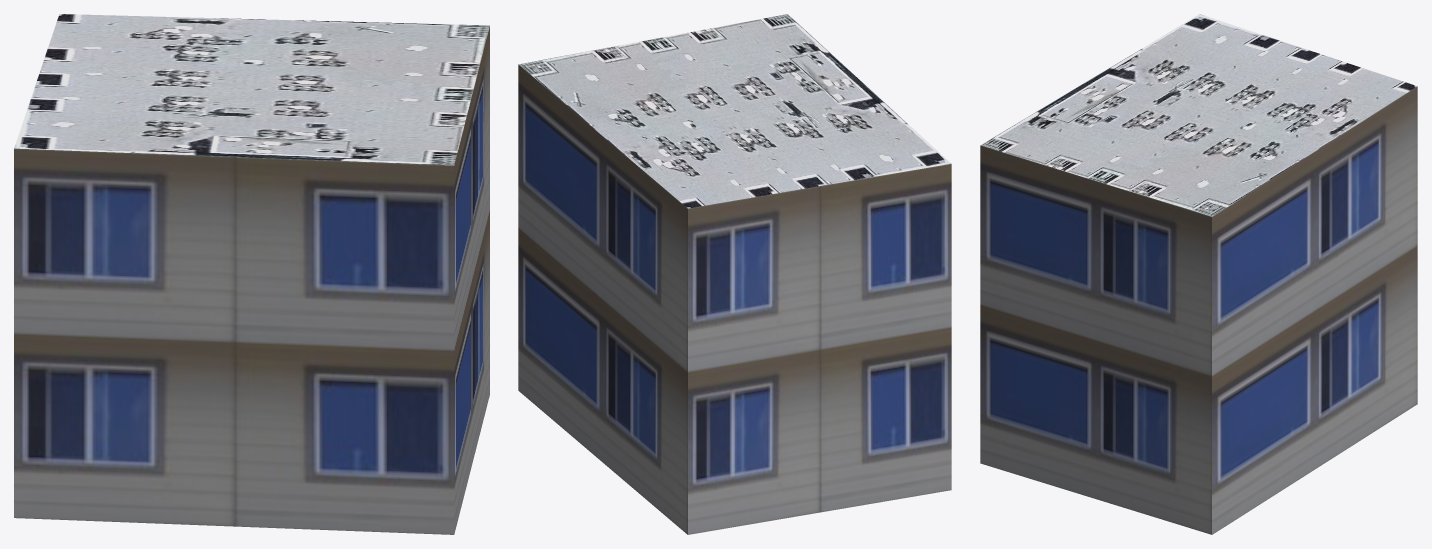
File: ResTex__828.fbx
The picture shows the model from 3 angles, left to right: view 1: azimuth 30°, elevation 25°; view 2: azimuth 150°, elevation 25°; view 3: azimuth 270°, elevation 25°; orthographic projection. The views are drawn at different scales.
Parts seen in each view (by area): view 1: CityEngineMaterial_23_m, CityEngineMaterial_4_m; view 2: CityEngineMaterial_23_m, CityEngineMaterial_4_m; view 3: CityEngineMaterial_23_m, CityEngineMaterial_4_m.
Part boxes in pixels (<box>): CityEngineMaterial_23_m: <box>14,26,489,534</box>; CityEngineMaterial_4_m: <box>14,14,489,165</box>; CityEngineMaterial_23_m: <box>518,64,951,534</box>; CityEngineMaterial_4_m: <box>519,14,951,208</box>; CityEngineMaterial_23_m: <box>980,86,1417,534</box>; CityEngineMaterial_4_m: <box>980,14,1417,216</box>.
Bounding box in the file's own units: 8.21 × 6 × 7.48.
Materials: 2 (2 with a texture image).
